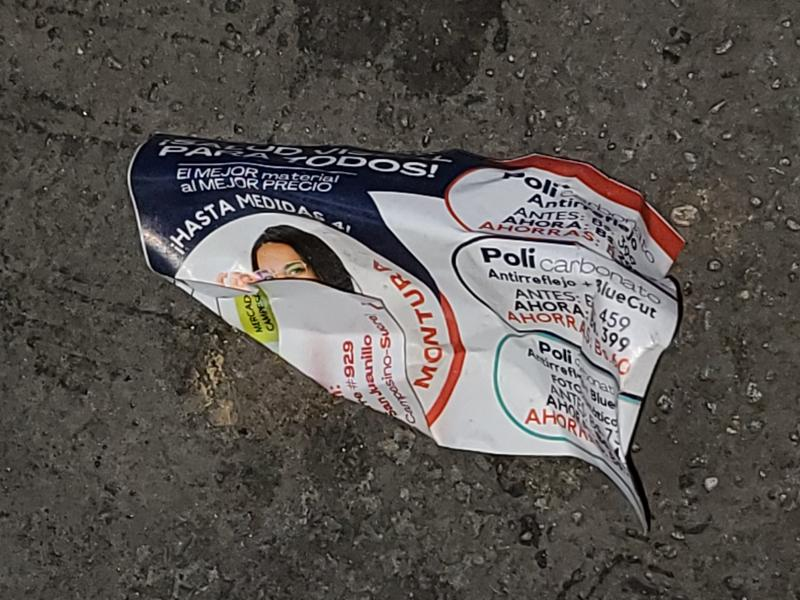papel: (125, 134, 687, 524)
